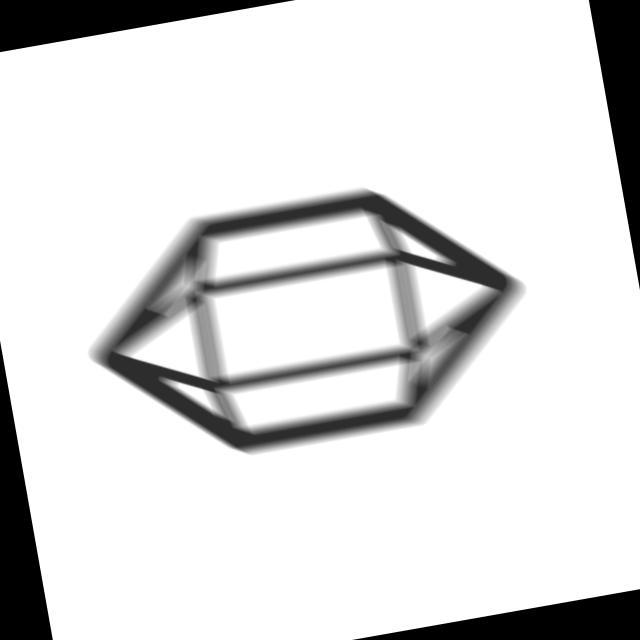crystal: (61, 152, 553, 492)
